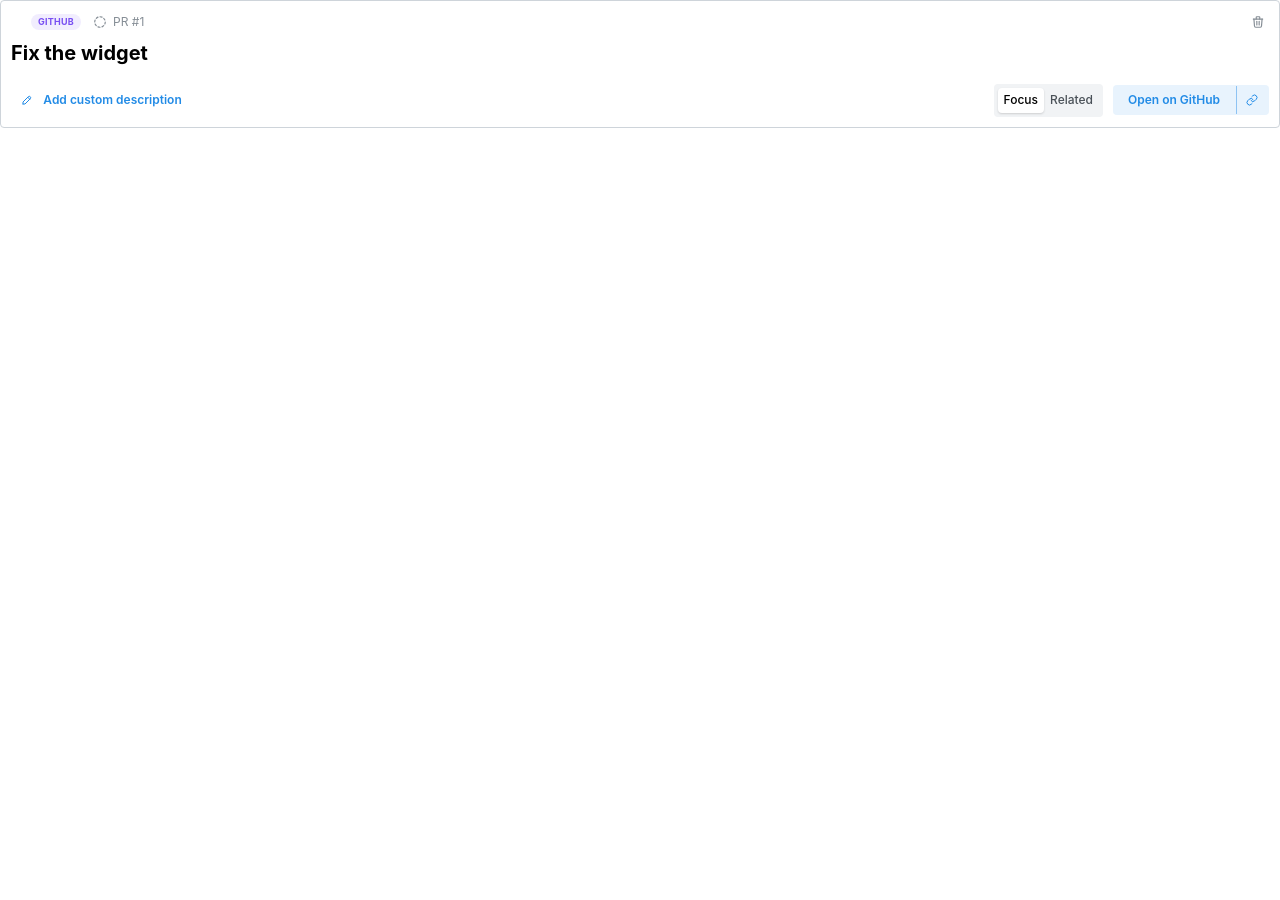
it: edit custom details button › opens the edit modal
Click the button "Add custom description". click: click(104, 100)
box: [11,85,197,115]
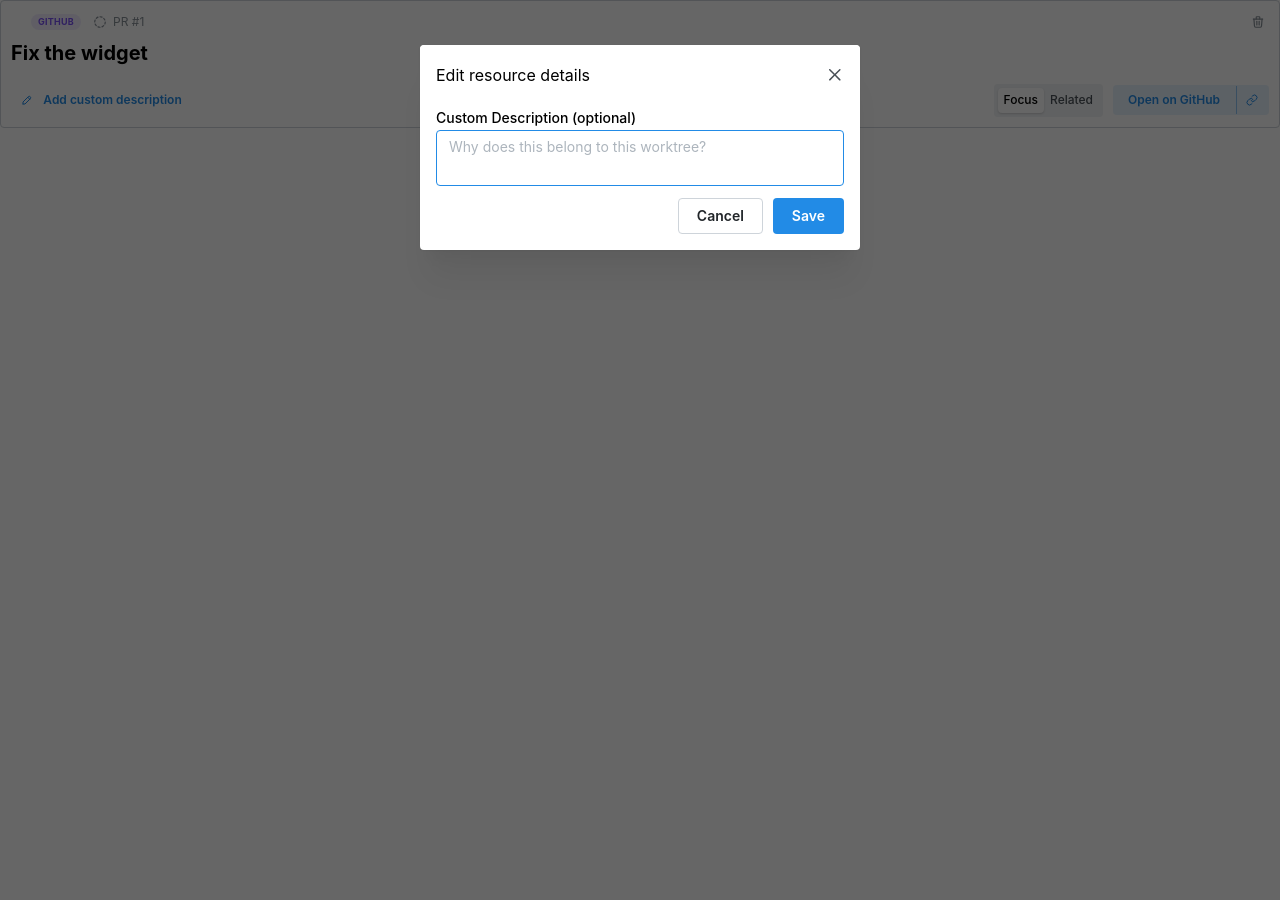
Now the dialog is shown, box [420,45,860,250]
